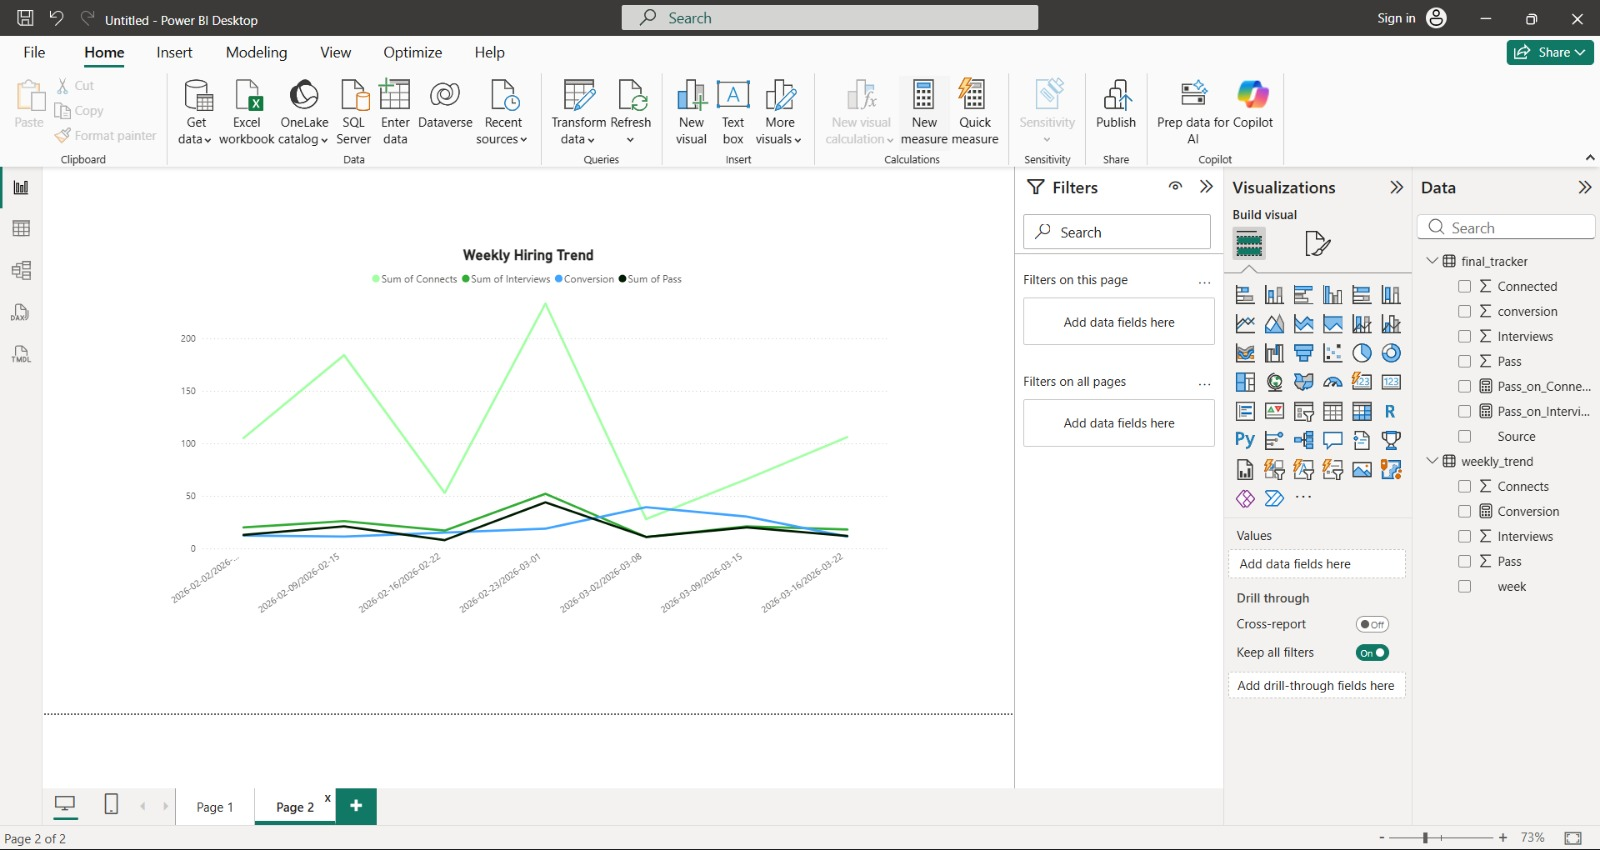

This screenshot's page, from the dashboard's own definition file:
{"tool":"powerbi","page":{"name":"Page 2","canvas":[1280,720],"ordinal":1},"visuals":[{"type":"lineChart","title":"Weekly Hiring Trend","fields":{"Category":["weekly_trend.week"],"Y":["Sum(weekly_trend.is_connected)","Sum(weekly_trend.is_interview)","weekly_trend.Weekly_Conversion","Sum(weekly_trend.is_pass)"]},"box":[162.3,105.8,956.5,507.2],"z":0}]}

Visuals, with their boxes on the page's 1280x720 design canvas (x1, y1, x2, y2). These are canvas units, not pixel positions in the 1600x850 screenshot, which may show the page scaled, cropped or inside an application window:
"Weekly Hiring Trend" lineChart: box=[162, 106, 1119, 613]
